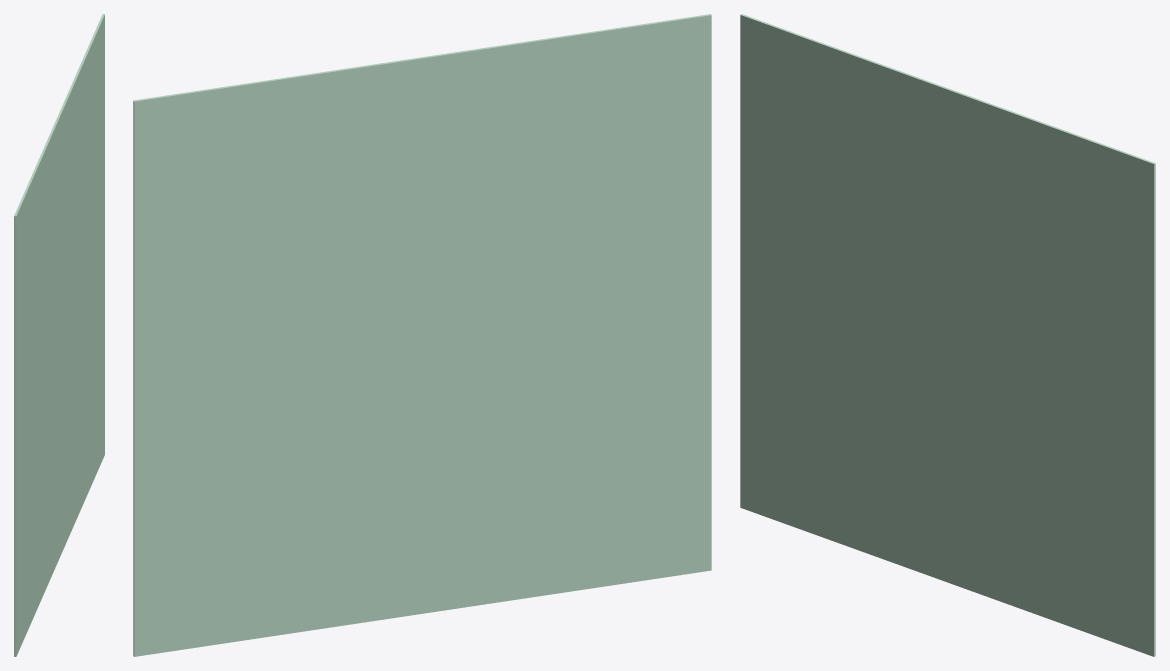
3 renders of one model, left to right at view 1: azimuth 30°, elevation 25°; view 2: azimuth 150°, elevation 25°; view 3: azimuth 270°, elevation 25°, orthographic. The views are drawn at different scales.
Parts seen in each view (by area): view 1: Площина.002; view 2: Площина.002; view 3: Площина.002.
Boxes of the visible parts, box(x1,y1,x2,y2) form: Площина.002: box(14, 14, 104, 656); Площина.002: box(133, 14, 711, 656); Площина.002: box(740, 14, 1155, 656).
Bounding box in the file's own units: 5.56 × 8.51 × 6.5.
